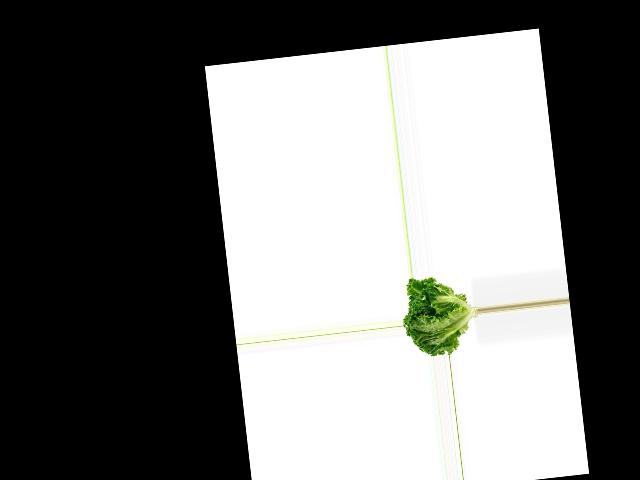lettuce: (399, 272, 482, 359)
